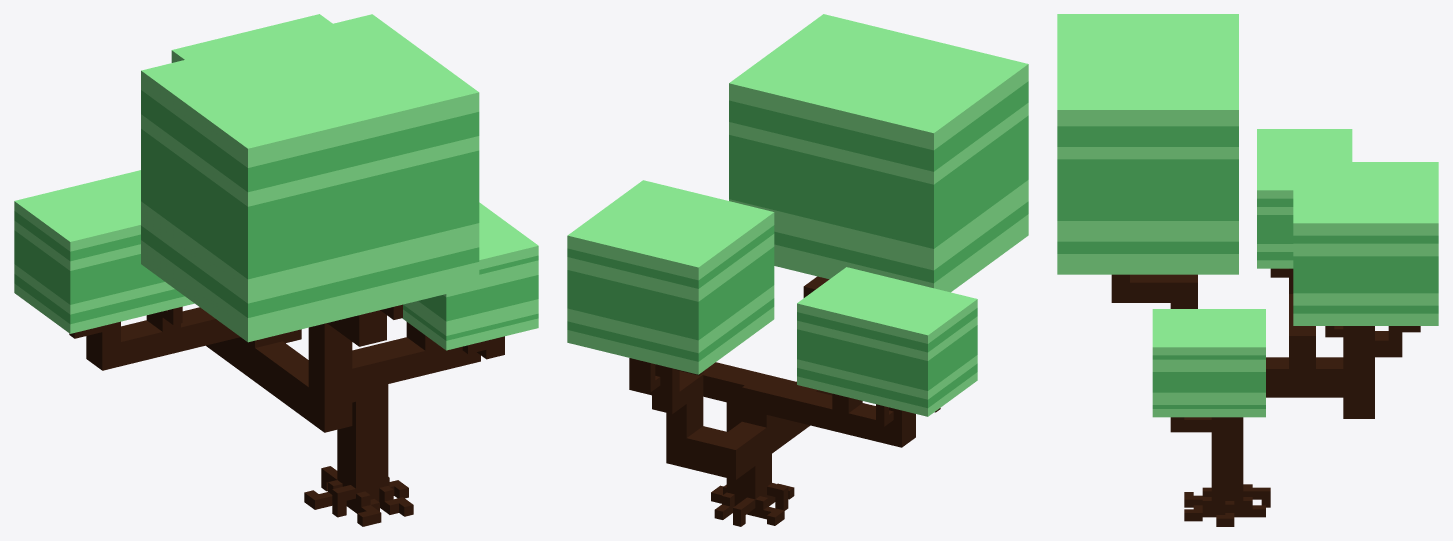
File: treeoakunion.obj
The picture shows the model from 3 angles, left to right: view 1: azimuth 30°, elevation 25°; view 2: azimuth 150°, elevation 25°; view 3: azimuth 270°, elevation 25°; orthographic projection. The views are drawn at different scales.
Bounding box in the file's own units: 8.8 × 9.9 × 8.4.
Materials: 1 (1 with a texture image).
